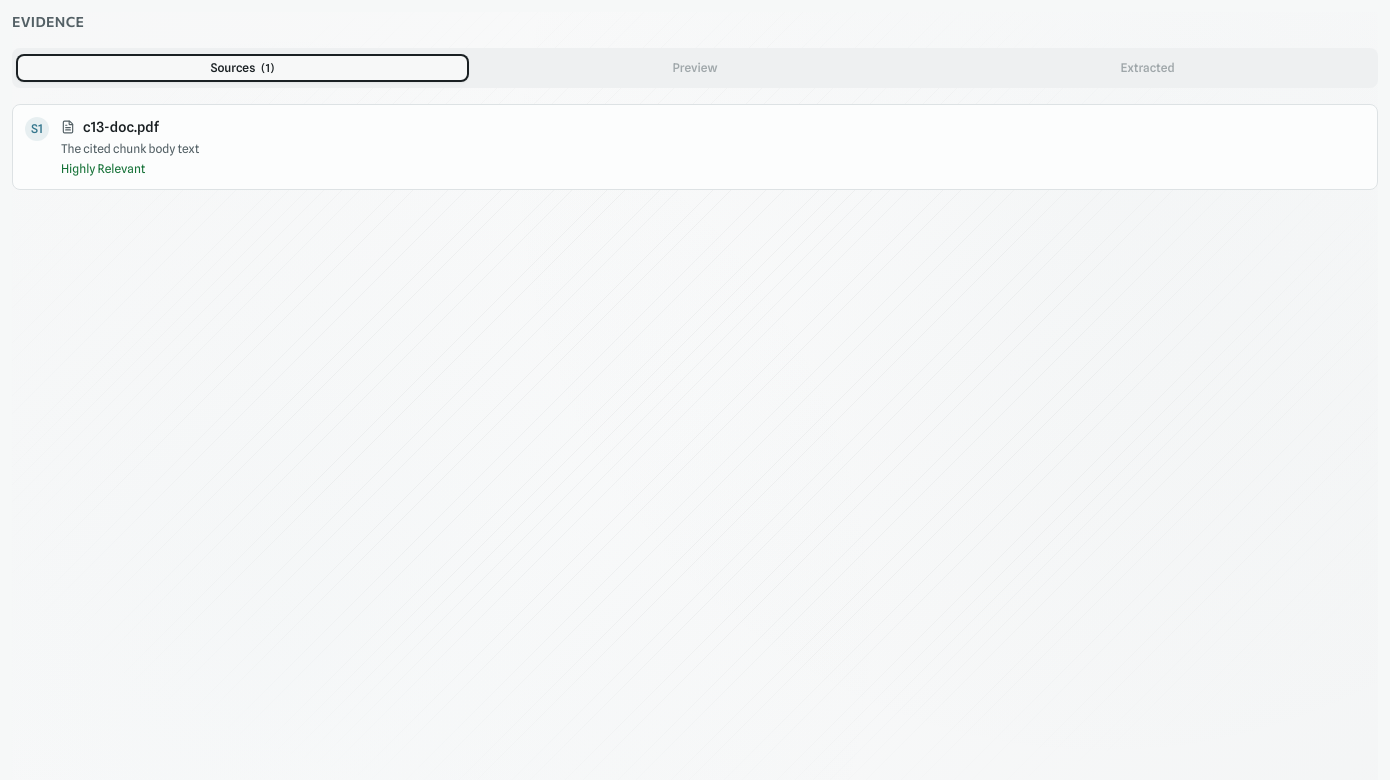
Test: RightPane chunk-context neighbor text (issue #718 AC2) › renders before/after neighbor text absent from context_text exactly once
The width and height of the screenshot is (1390, 780).
Click the button. click: [121, 127]
box: [12,104,1378,190]
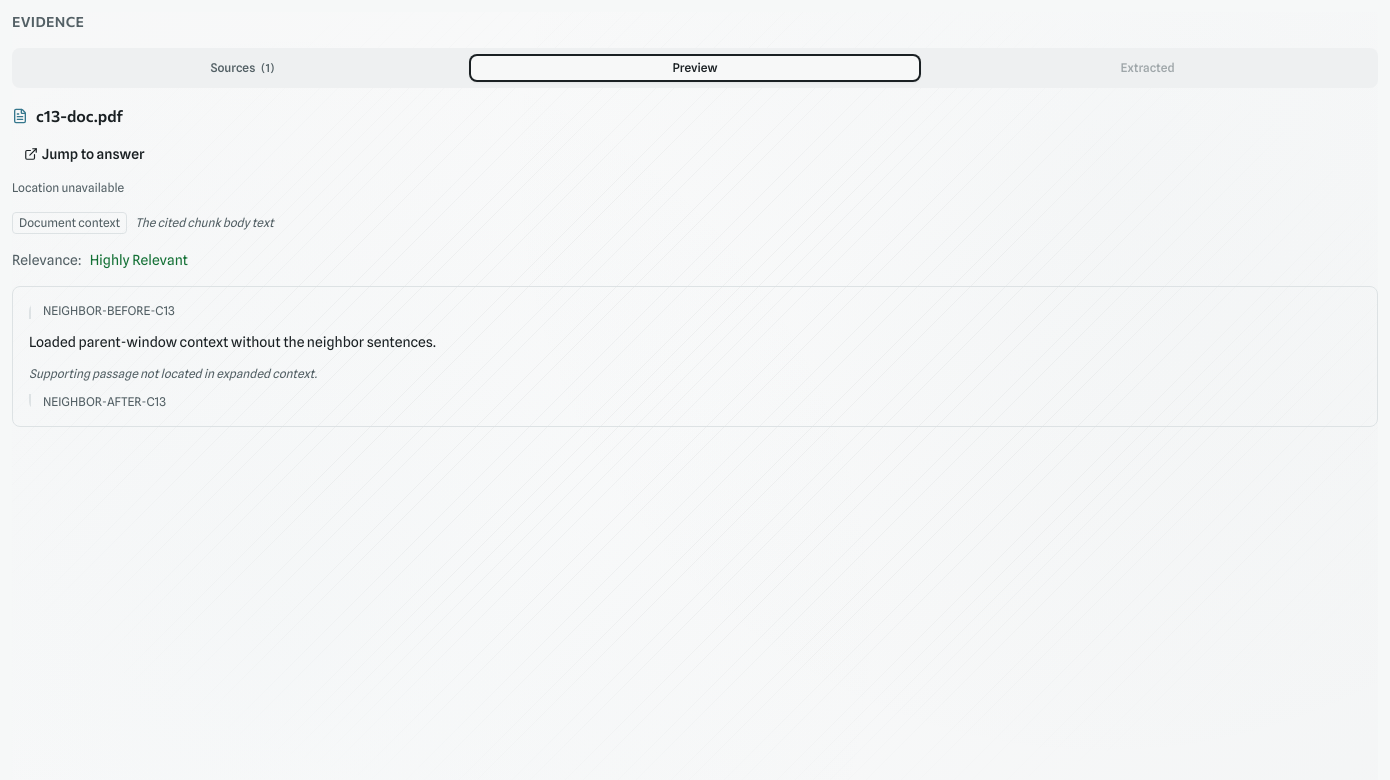
Now the text "Loaded parent-window context without the neighbor sentences." is shown, box [29,334,436,350]
Now the text "NEIGHBOR-BEFORE-C13" is shown once, box [43,303,175,318]
Now the text "NEIGHBOR-AFTER-C13" is shown once, box [43,394,166,409]
